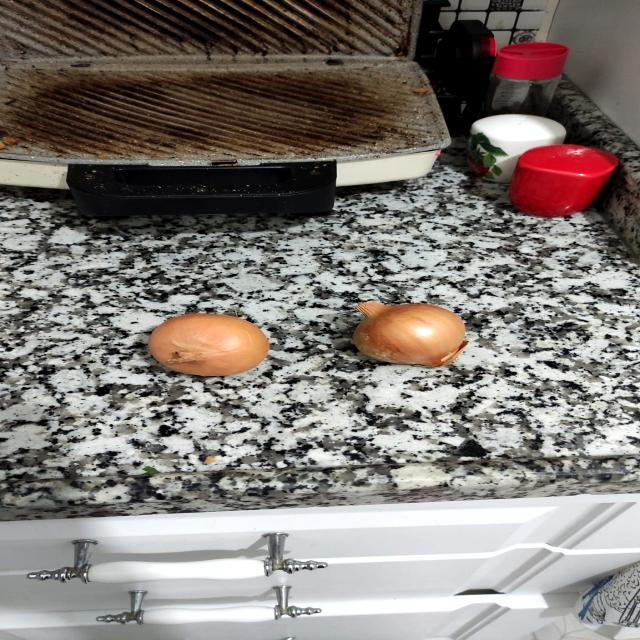onion: (338, 292, 488, 376), (131, 304, 287, 384)
